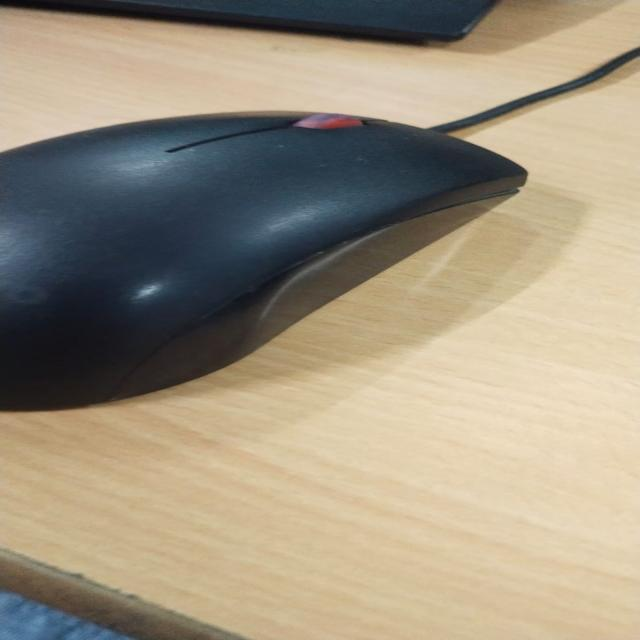mouse: (0, 54, 606, 446)
